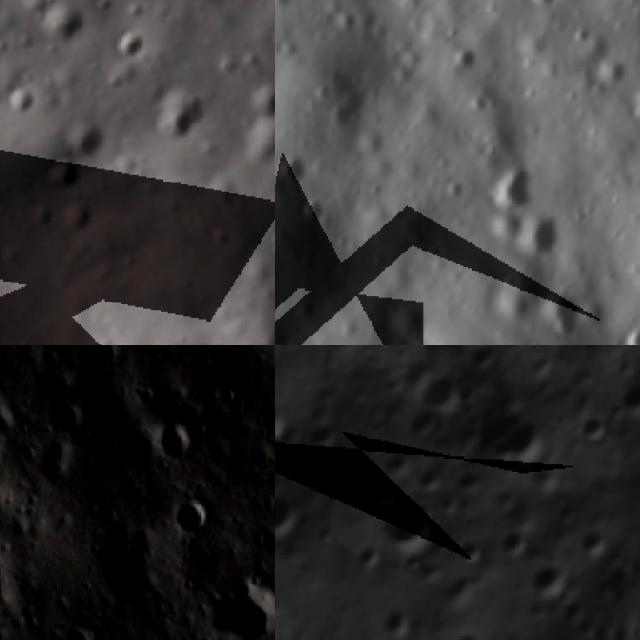crater: (366, 480, 447, 561), (482, 401, 557, 478), (207, 576, 275, 640), (484, 152, 547, 217), (508, 204, 572, 267), (411, 359, 471, 420), (535, 279, 593, 339), (382, 345, 439, 403), (582, 39, 640, 95), (523, 556, 576, 610), (19, 7, 83, 47), (275, 137, 321, 191), (175, 491, 220, 544), (433, 567, 481, 614), (572, 522, 619, 569), (152, 424, 202, 468), (154, 90, 195, 141), (371, 599, 422, 640), (400, 401, 445, 446), (275, 482, 307, 545), (492, 522, 536, 566), (450, 530, 492, 572), (577, 407, 617, 451), (48, 396, 82, 447), (295, 184, 335, 225), (614, 366, 640, 426), (108, 33, 143, 72), (620, 66, 640, 130), (367, 494, 401, 530), (42, 161, 80, 190), (247, 85, 275, 118), (275, 385, 289, 444), (10, 85, 32, 116), (60, 622, 97, 640), (448, 625, 492, 640), (617, 317, 640, 345), (265, 231, 275, 271)
